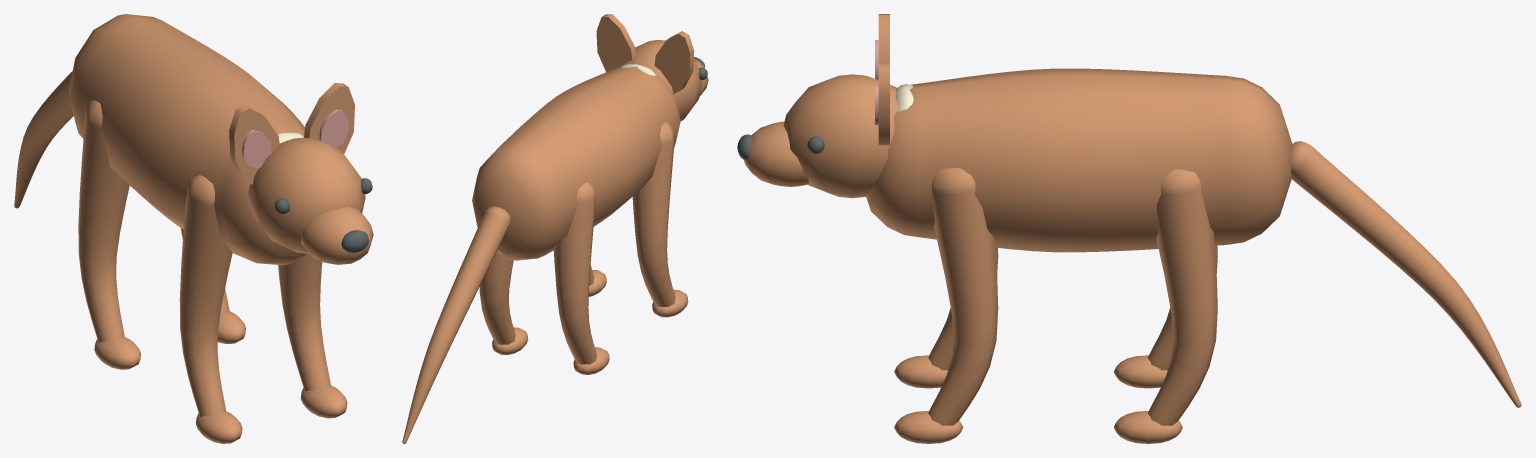
Rendered from outback-and-australian-wildlife-dingo-7a437ffd__5915.glb.
The picture shows the model from 3 angles, left to right: view 1: azimuth 30°, elevation 25°; view 2: azimuth 150°, elevation 25°; view 3: azimuth 270°, elevation 25°; orthographic projection. The views are drawn at different scales.
Visible parts, largest first — view 1: dingo; view 2: dingo; view 3: dingo.
Boxes of the visible parts, box(x1,y1,x2,y2) form: dingo: box(14, 14, 373, 443); dingo: box(402, 14, 708, 443); dingo: box(737, 14, 1521, 443).
Bounding box in the file's own units: 0.3999 × 0.931 × 1.77.
